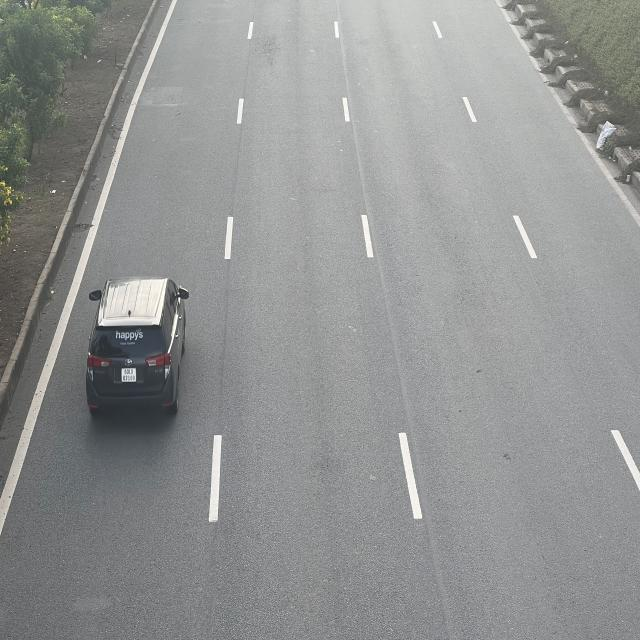car: (85, 279, 191, 419)
